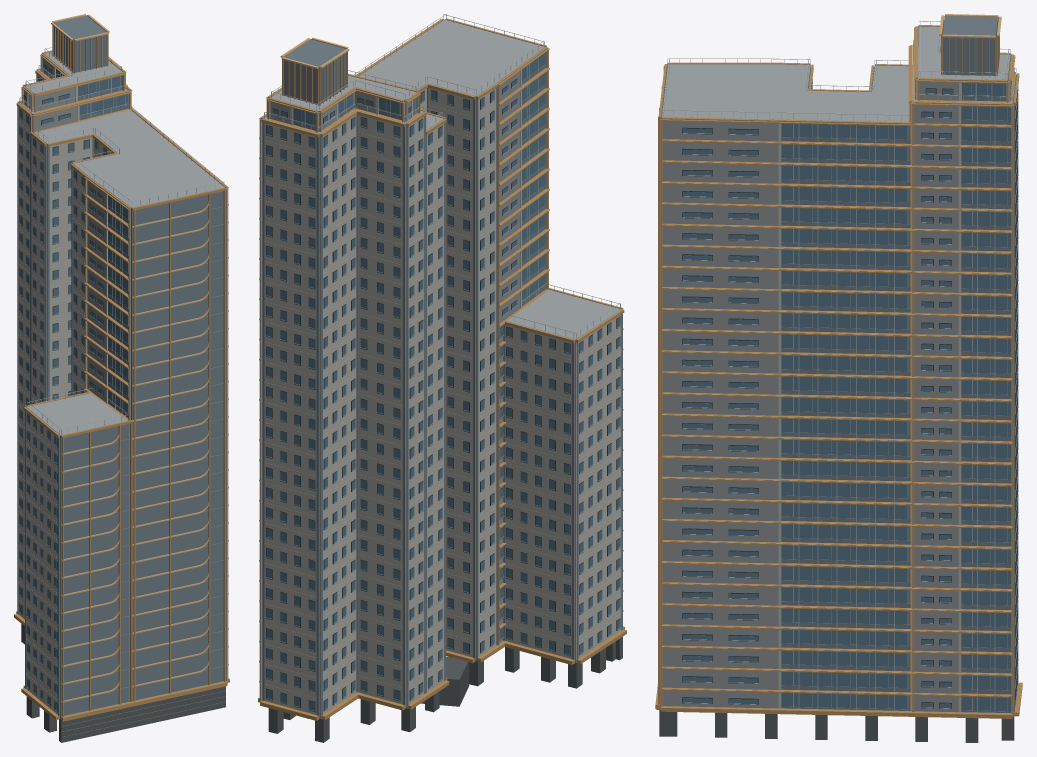
File: bespoke-raemian-onepentas-104.glb
3 views of the same model, side by side, from view 1: azimuth 30°, elevation 25°; view 2: azimuth 150°, elevation 25°; view 3: azimuth 270°, elevation 25° (orthographic). The views are drawn at different scales.
Parts seen in each view (by area): view 1: bespoke-raemian-onepentas-104_export_batch_4, bespoke-raemian-onepentas-104_export_batch_8, bespoke-raemian-onepentas-104_export_batch_2, bespoke-raemian-onepentas-104_export_batch_6, bespoke-raemian-onepentas-104_export_batch_5, bespoke-raemian-onepentas-104_export_batch_7, bespoke-raemian-onepentas-104_export_batch_3, bespoke-raemian-onepentas-104_export_batch_10, bespoke-raemian-onepentas-104_export_batch_1, bespoke-raemian-onepentas-104_export_batch_9; view 2: bespoke-raemian-onepentas-104_export_batch_8, bespoke-raemian-onepentas-104_export_batch_6, bespoke-raemian-onepentas-104_export_batch_4, bespoke-raemian-onepentas-104_export_batch_9, bespoke-raemian-onepentas-104_export_batch_3, bespoke-raemian-onepentas-104_export_batch_2, bespoke-raemian-onepentas-104_export_batch_5, bespoke-raemian-onepentas-104_export_batch_10, bespoke-raemian-onepentas-104_export_batch_1, bespoke-raemian-onepentas-104_export_batch_7; view 3: bespoke-raemian-onepentas-104_export_batch_6, bespoke-raemian-onepentas-104_export_batch_10, bespoke-raemian-onepentas-104_export_batch_2, bespoke-raemian-onepentas-104_export_batch_4, bespoke-raemian-onepentas-104_export_batch_3, bespoke-raemian-onepentas-104_export_batch_5, bespoke-raemian-onepentas-104_export_batch_7, bespoke-raemian-onepentas-104_export_batch_8, bespoke-raemian-onepentas-104_export_batch_9, bespoke-raemian-onepentas-104_export_batch_1.
Boxes of the visible parts, left/top/right/bottom form: bespoke-raemian-onepentas-104_export_batch_4: left=17, top=15, right=223, bottom=718; bespoke-raemian-onepentas-104_export_batch_8: left=18, top=57, right=227, bottom=718; bespoke-raemian-onepentas-104_export_batch_2: left=14, top=15, right=229, bottom=721; bespoke-raemian-onepentas-104_export_batch_6: left=19, top=64, right=131, bottom=718; bespoke-raemian-onepentas-104_export_batch_5: left=19, top=52, right=224, bottom=435; bespoke-raemian-onepentas-104_export_batch_7: left=51, top=14, right=228, bottom=702; bespoke-raemian-onepentas-104_export_batch_3: left=18, top=47, right=225, bottom=736; bespoke-raemian-onepentas-104_export_batch_10: left=24, top=58, right=105, bottom=402; bespoke-raemian-onepentas-104_export_batch_1: left=21, top=624, right=225, bottom=742; bespoke-raemian-onepentas-104_export_batch_9: left=19, top=63, right=106, bottom=712; bespoke-raemian-onepentas-104_export_batch_8: left=260, top=51, right=621, bottom=718; bespoke-raemian-onepentas-104_export_batch_6: left=266, top=52, right=620, bottom=718; bespoke-raemian-onepentas-104_export_batch_4: left=262, top=39, right=622, bottom=718; bespoke-raemian-onepentas-104_export_batch_9: left=266, top=78, right=620, bottom=711; bespoke-raemian-onepentas-104_export_batch_3: left=262, top=14, right=621, bottom=711; bespoke-raemian-onepentas-104_export_batch_2: left=258, top=18, right=626, bottom=720; bespoke-raemian-onepentas-104_export_batch_5: left=263, top=19, right=621, bottom=340; bespoke-raemian-onepentas-104_export_batch_10: left=270, top=71, right=520, bottom=642; bespoke-raemian-onepentas-104_export_batch_1: left=268, top=637, right=622, bottom=742; bespoke-raemian-onepentas-104_export_batch_7: left=259, top=37, right=623, bottom=681; bespoke-raemian-onepentas-104_export_batch_6: left=661, top=48, right=1018, bottom=711; bespoke-raemian-onepentas-104_export_batch_10: left=663, top=82, right=958, bottom=712; bespoke-raemian-onepentas-104_export_batch_2: left=655, top=15, right=1022, bottom=718; bespoke-raemian-onepentas-104_export_batch_4: left=661, top=16, right=1018, bottom=712; bespoke-raemian-onepentas-104_export_batch_3: left=661, top=20, right=1018, bottom=712; bespoke-raemian-onepentas-104_export_batch_5: left=662, top=26, right=1015, bottom=122; bespoke-raemian-onepentas-104_export_batch_7: left=661, top=14, right=1012, bottom=696; bespoke-raemian-onepentas-104_export_batch_8: left=660, top=27, right=1017, bottom=716; bespoke-raemian-onepentas-104_export_batch_9: left=682, top=85, right=1017, bottom=708; bespoke-raemian-onepentas-104_export_batch_1: left=659, top=710, right=1014, bottom=742.
Size of the model in its own units: 32.91 by 102 by 48.27.
